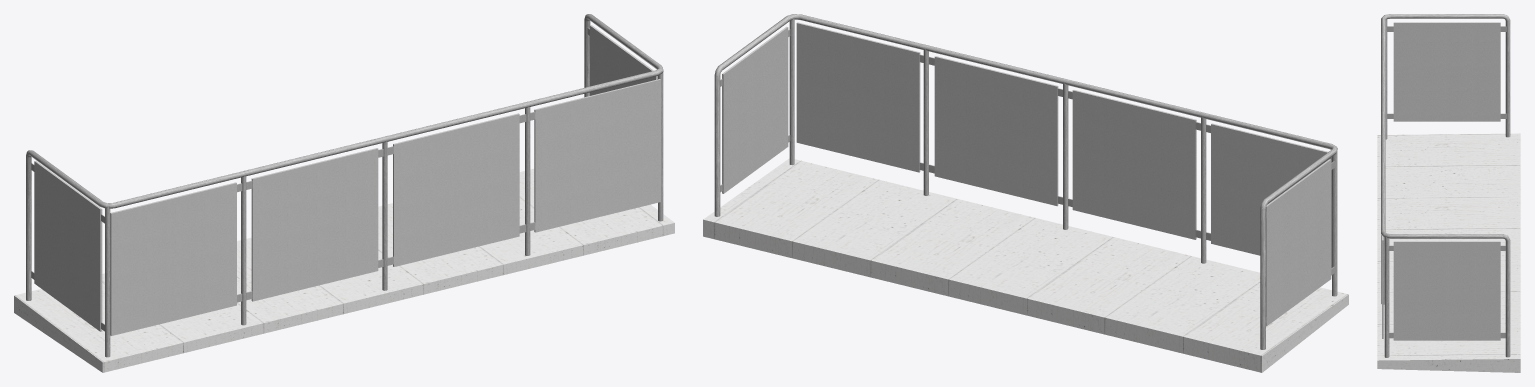
Rendered from H60Geländer.glb.
The picture shows the model from 3 angles, left to right: view 1: azimuth 30°, elevation 25°; view 2: azimuth 150°, elevation 25°; view 3: azimuth 270°, elevation 25°; orthographic projection. The views are drawn at different scales.
Visible parts, largest first — view 1: Cube.007; view 2: Cube.007; view 3: Cube.007.
Part boxes in pixels (bbox=[...]): Cube.007: bbox=[14, 14, 674, 372]; Cube.007: bbox=[703, 14, 1348, 372]; Cube.007: bbox=[1377, 14, 1520, 372].
Bounding box in the file's own units: 9.78 × 2.76 × 2.63.
Materials: 3 (3 with a texture image).
